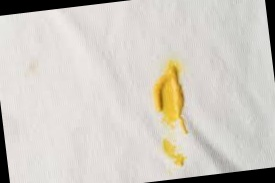mustard: (147, 61, 192, 136), (157, 137, 190, 171)
